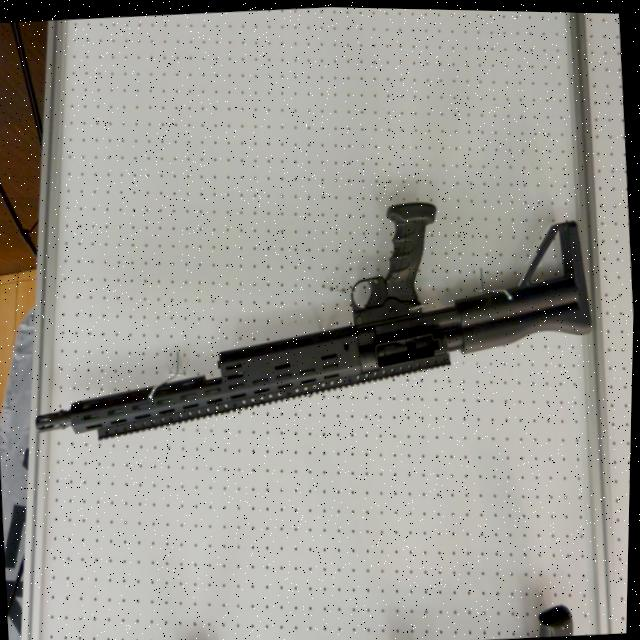firearm: (19, 176, 603, 455), (168, 591, 577, 640)
